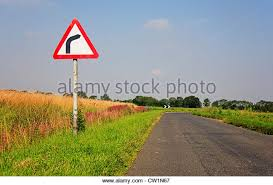Bend_to_right: (50, 16, 101, 61)
